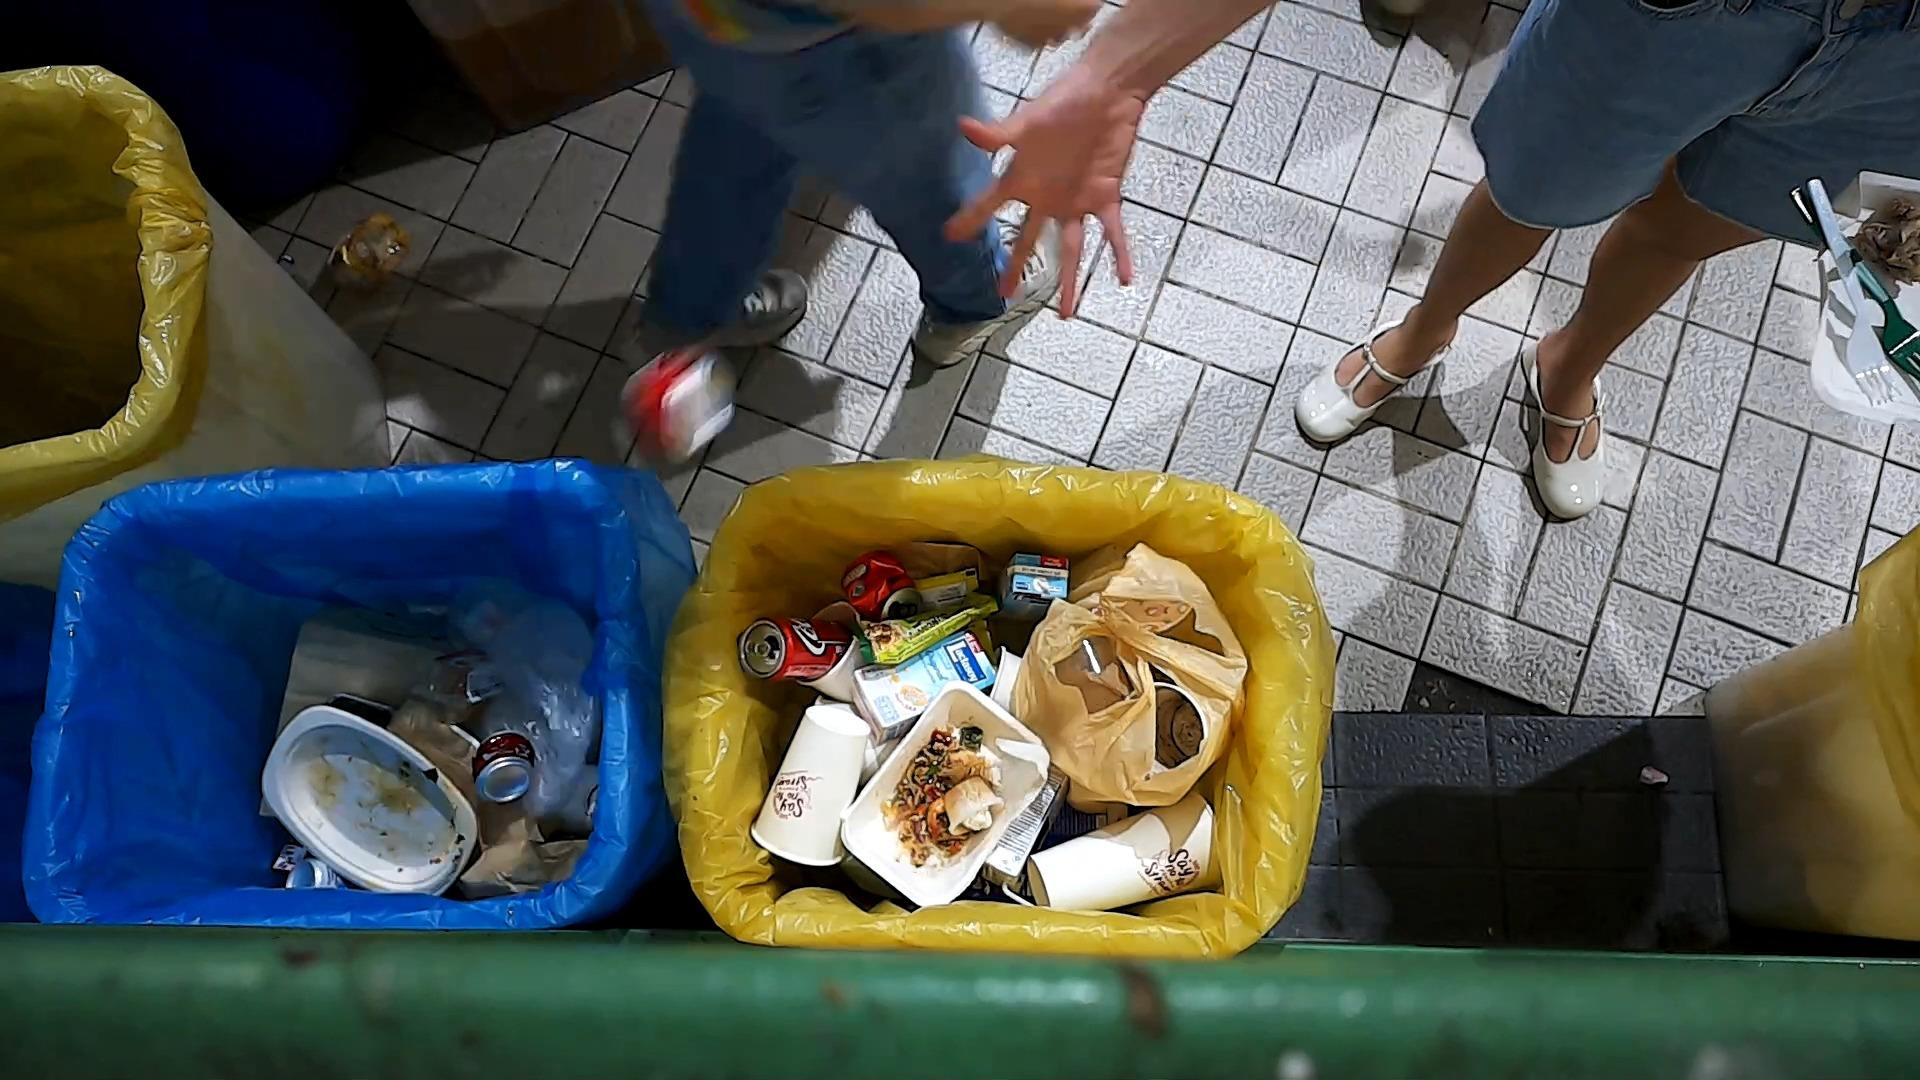can: (608, 330, 752, 487), (735, 611, 853, 686), (836, 545, 927, 624), (465, 723, 543, 807)
dirty food container: (835, 674, 1055, 910), (1807, 161, 1920, 430), (939, 773, 1009, 841)
filled plastic bag: (1006, 538, 1255, 812)
food container: (258, 696, 484, 897), (400, 644, 514, 729)
milk carton: (848, 625, 1001, 749), (982, 761, 1073, 907), (993, 551, 1071, 633)
paper bag: (451, 802, 597, 903)
plastic bag: (442, 567, 607, 818)
plastic cutlery: (1785, 183, 1920, 398), (1803, 174, 1908, 411)
snack packaging: (845, 587, 1006, 669)
zero waste cup: (1023, 787, 1226, 918), (745, 703, 874, 870)
